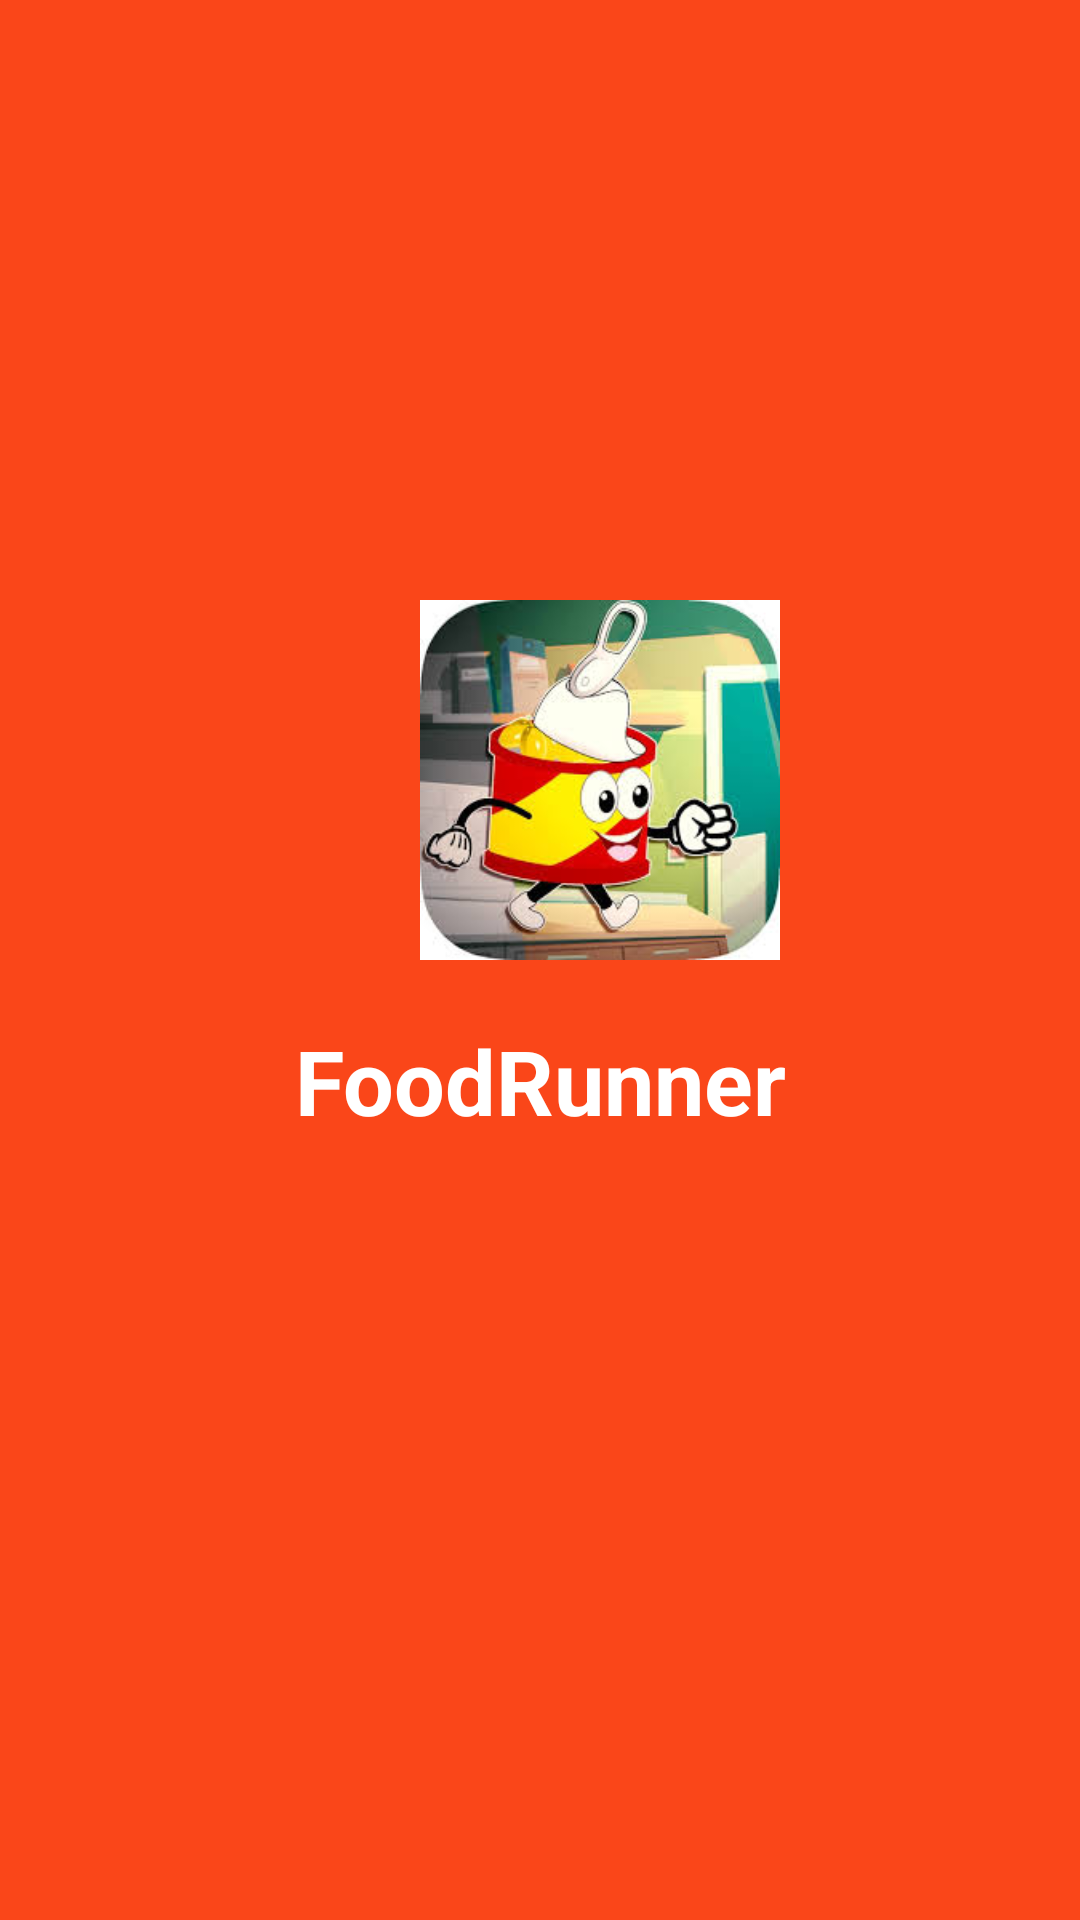

Icons on this 1080×1920 Android screen, each with its box as [left=x1, top=y1, right=x2, bottom=y2]:
foodpic: [left=420, top=600, right=780, bottom=960]
